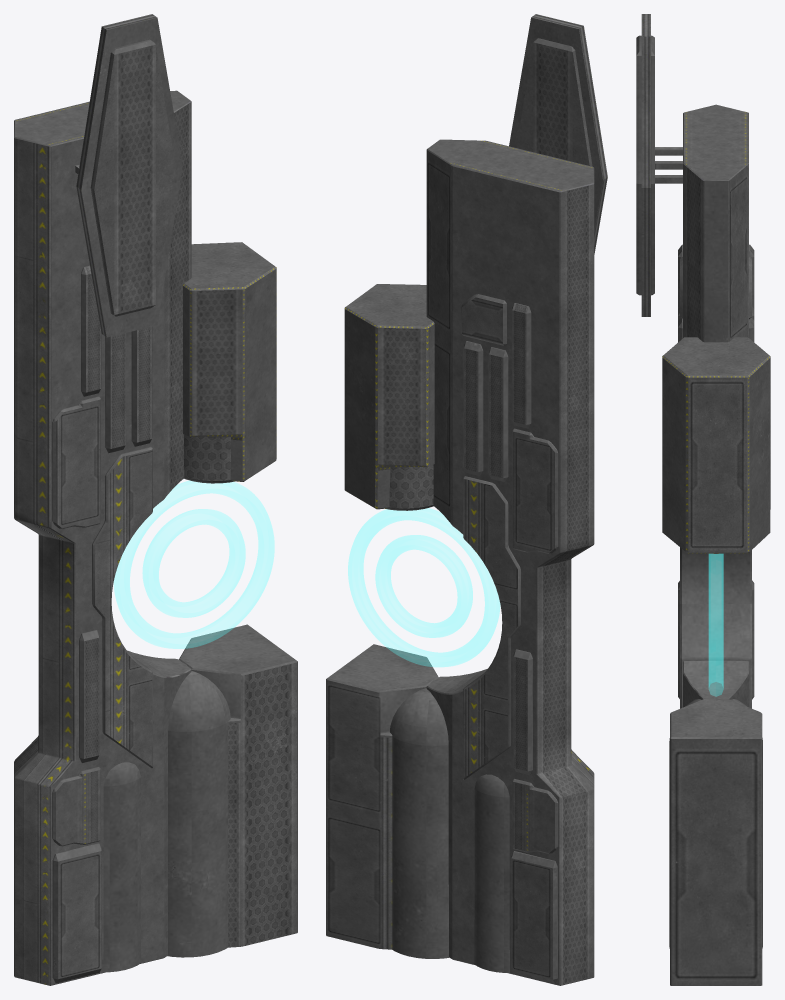
File: tower.fbx
The picture shows the model from 3 angles, left to right: view 1: azimuth 30°, elevation 25°; view 2: azimuth 150°, elevation 25°; view 3: azimuth 270°, elevation 25°; orthographic projection. The views are drawn at different scales.
Visible parts, largest first — view 1: Tower, RingLarge, RingSmall; view 2: Tower, RingLarge, RingSmall; view 3: Tower, RingLarge, RingSmall.
Boxes of the visible parts, x1,y1,x2,y2 form: Tower: (14,14,297,985); RingLarge: (114,480,274,648); RingSmall: (142,509,245,617); Tower: (326,14,607,985); RingLarge: (348,508,499,666); RingSmall: (375,535,472,637); Tower: (636,14,770,985); RingLarge: (708,553,723,696); RingSmall: (709,560,722,665).
Size of the model in its own units: 28105 by 99951 by 13829.
